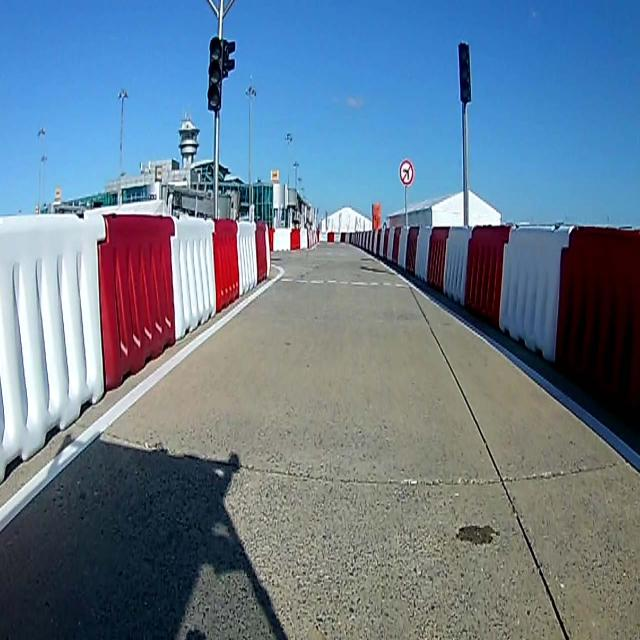soladonulmez: (400, 157, 414, 187)
